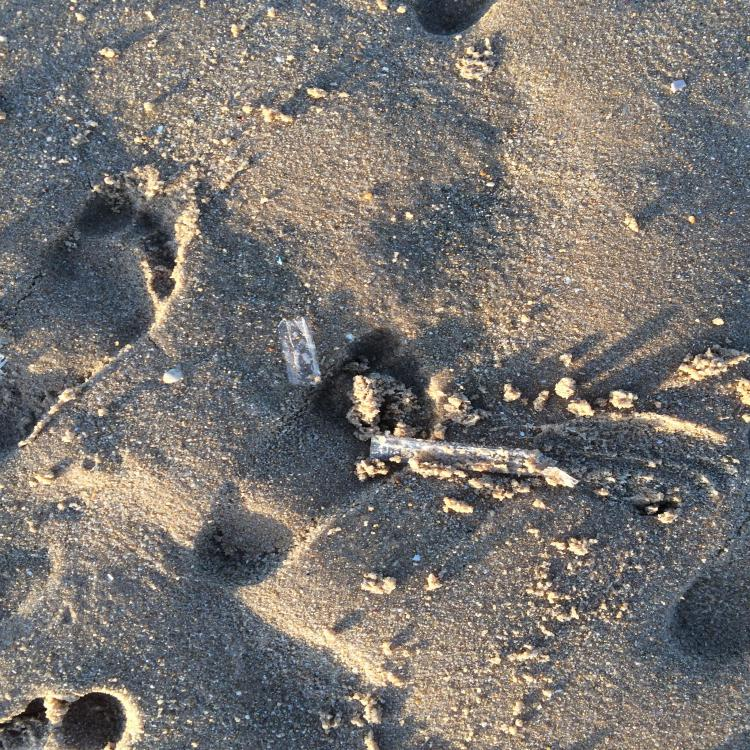Plastic film: (371, 434, 579, 486), (277, 316, 320, 384)
